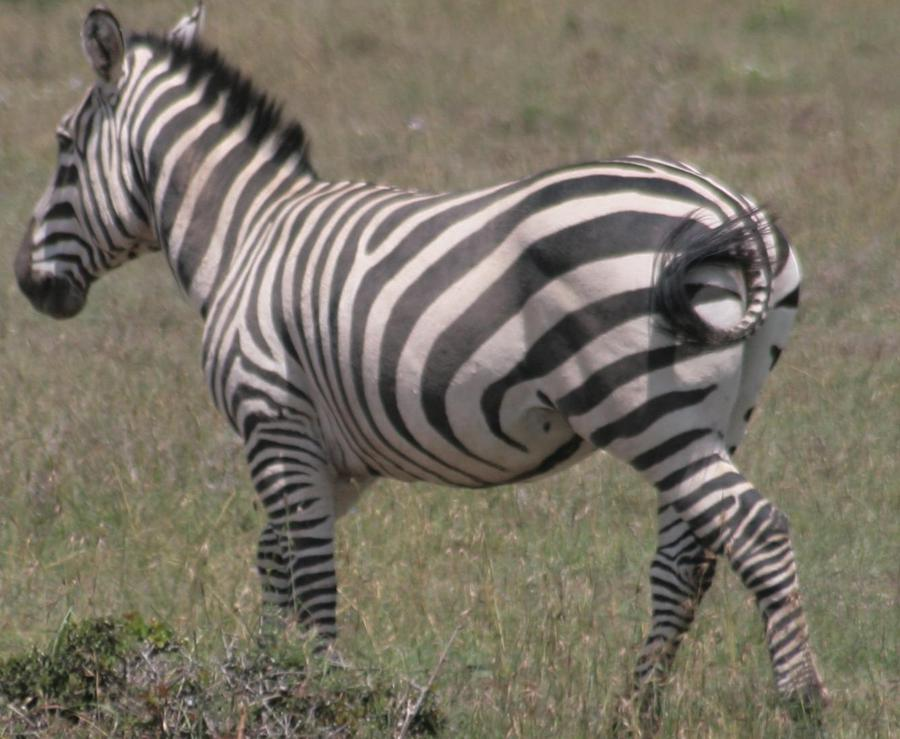zebra_plains: (163, 145, 743, 517)
